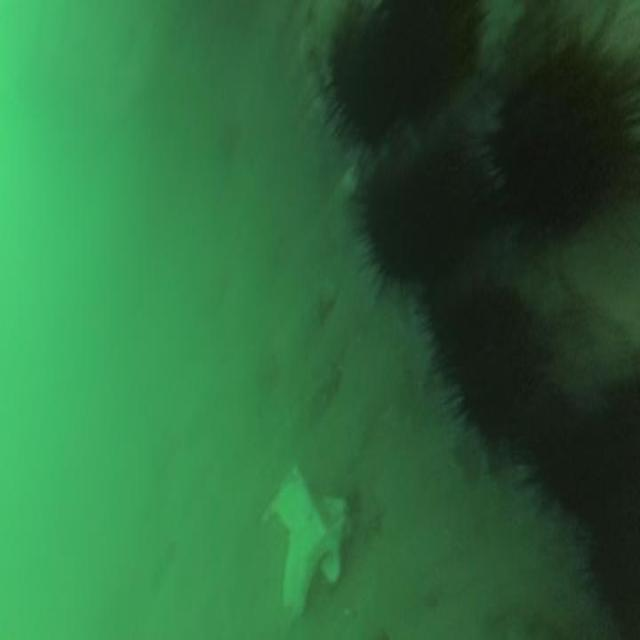echinus: (481, 14, 640, 259), (298, 2, 490, 150), (531, 379, 640, 621), (420, 286, 558, 465), (345, 140, 495, 298)
